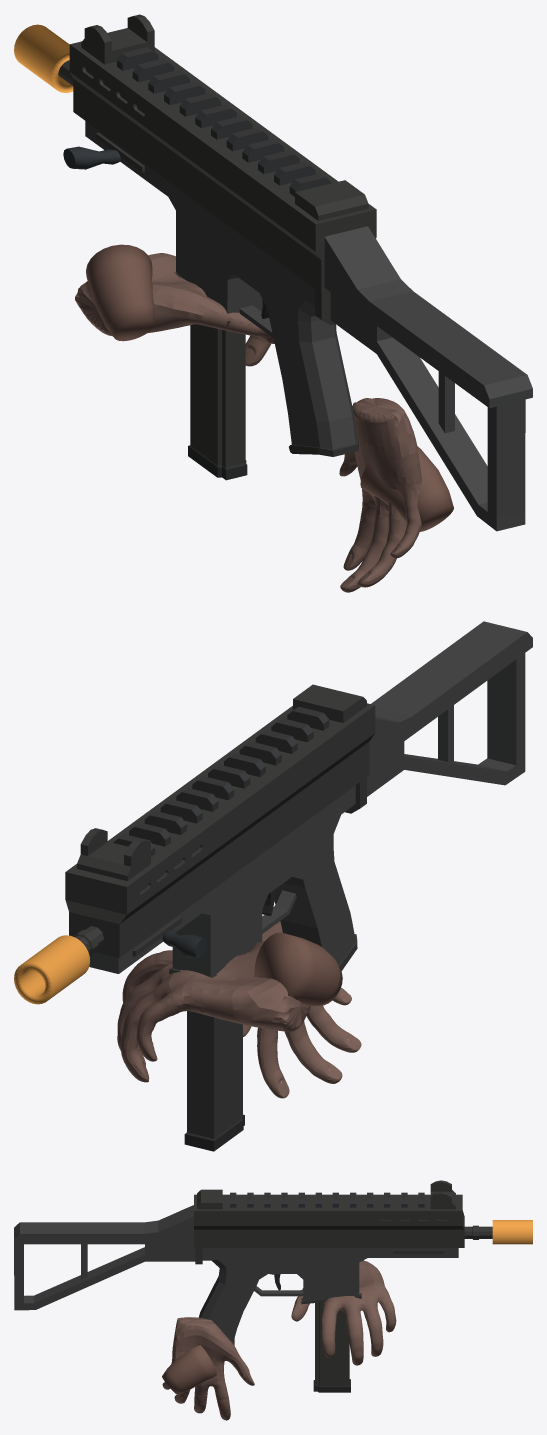
The model's file is whisper.glb.
The picture shows the model from 3 angles, top to bottom: view 1: azimuth 30°, elevation 25°; view 2: azimuth 150°, elevation 25°; view 3: azimuth 270°, elevation 25°; orthographic projection. The views are drawn at different scales.
Visible parts, largest first — view 1: AUTHORED mp5a5 WeaponBodyGeometry, whisper ONE_HAND RIGHT REAL ANATOMICAL CC0 HAND, AUTHORED mp5a5 MagazineGeometry, whisper TWO_HAND LEFT REAL ANATOMICAL CC0 HAND, whisper TWO_HAND LEFT short wrist stub, whisper ONE_HAND RIGHT short wrist stub, AIRSOFT_ORANGE_TIP_07 - fitted hollow muzzle sleeve, AUTHORED mp5a5 FrontIronGeometry, AUTHORED mp5a5 RearIronGeometry, AUTHORED mp5a5 ChargingHandleGeometry; view 2: AUTHORED mp5a5 WeaponBodyGeometry, whisper TWO_HAND LEFT REAL ANATOMICAL CC0 HAND, AUTHORED mp5a5 MagazineGeometry, whisper ONE_HAND RIGHT REAL ANATOMICAL CC0 HAND, whisper TWO_HAND LEFT short wrist stub, AIRSOFT_ORANGE_TIP_07 - fitted hollow muzzle sleeve, AUTHORED mp5a5 FrontIronGeometry, AUTHORED mp5a5 RearIronGeometry, AUTHORED mp5a5 ChargingHandleGeometry; view 3: AUTHORED mp5a5 WeaponBodyGeometry, whisper TWO_HAND LEFT REAL ANATOMICAL CC0 HAND, whisper ONE_HAND RIGHT REAL ANATOMICAL CC0 HAND, AUTHORED mp5a5 MagazineGeometry, whisper ONE_HAND RIGHT short wrist stub, AIRSOFT_ORANGE_TIP_07 - fitted hollow muzzle sleeve, AUTHORED mp5a5 FrontIronGeometry, AUTHORED mp5a5 RearIronGeometry.
Part boxes in pixels (x1,y1,x2,y2): AUTHORED mp5a5 WeaponBodyGeometry: (58,41,532,531); whisper ONE_HAND RIGHT REAL ANATOMICAL CC0 HAND: (339,398,421,592); AUTHORED mp5a5 MagazineGeometry: (188,324,247,480); whisper TWO_HAND LEFT REAL ANATOMICAL CC0 HAND: (75,253,274,366); whisper TWO_HAND LEFT short wrist stub: (86,244,154,341); whisper ONE_HAND RIGHT short wrist stub: (360,446,453,531); AIRSOFT_ORANGE_TIP_07 - fitted hollow muzzle sleeve: (14,24,73,92); AUTHORED mp5a5 FrontIronGeometry: (81,14,154,64); AUTHORED mp5a5 RearIronGeometry: (295,180,368,220); AUTHORED mp5a5 ChargingHandleGeometry: (63,146,120,169); AUTHORED mp5a5 WeaponBodyGeometry: (65,621,532,977); whisper TWO_HAND LEFT REAL ANATOMICAL CC0 HAND: (117,941,310,1082); AUTHORED mp5a5 MagazineGeometry: (184,1011,244,1151); whisper ONE_HAND RIGHT REAL ANATOMICAL CC0 HAND: (243,905,361,1098); whisper TWO_HAND LEFT short wrist stub: (254,932,342,1006); AIRSOFT_ORANGE_TIP_07 - fitted hollow muzzle sleeve: (14,935,89,1004); AUTHORED mp5a5 FrontIronGeometry: (77,828,150,880); AUTHORED mp5a5 RearIronGeometry: (293,684,366,722); AUTHORED mp5a5 ChargingHandleGeometry: (162,930,207,958); AUTHORED mp5a5 WeaponBodyGeometry: (14,1192,492,1345); whisper TWO_HAND LEFT REAL ANATOMICAL CC0 HAND: (291,1260,396,1365); whisper ONE_HAND RIGHT REAL ANATOMICAL CC0 HAND: (162,1317,254,1420); AUTHORED mp5a5 MagazineGeometry: (313,1302,350,1392); whisper ONE_HAND RIGHT short wrist stub: (162,1345,216,1394); AIRSOFT_ORANGE_TIP_07 - fitted hollow muzzle sleeve: (492,1220,532,1244); AUTHORED mp5a5 FrontIronGeometry: (430,1180,455,1209); AUTHORED mp5a5 RearIronGeometry: (197,1189,222,1209).
Size of the model in its own units: 0.219 by 0.4064 by 0.852.
